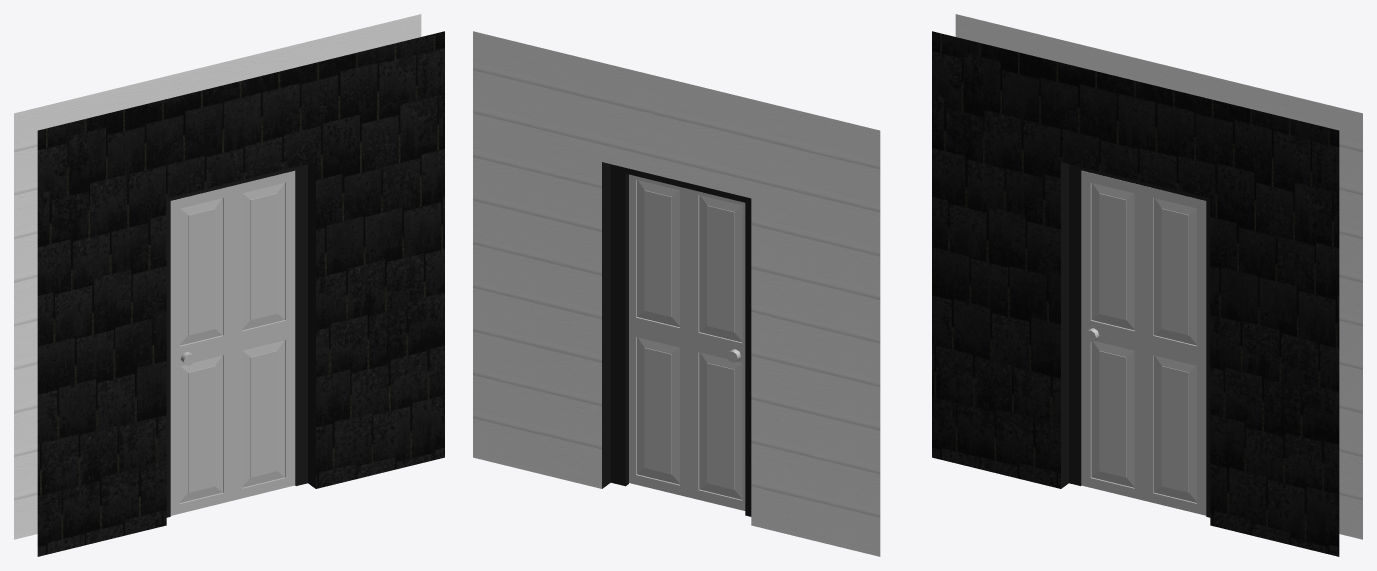
Rendered from Door_Wall_3m.fbx.
3 renders of one model, left to right at view 1: azimuth 30°, elevation 25°; view 2: azimuth 150°, elevation 25°; view 3: azimuth 330°, elevation 25°, orthographic.
Visible parts, largest first — view 1: Door_Wall_3m, Door.018; view 2: Door_Wall_3m, Door.018; view 3: Door_Wall_3m, Door.018.
Part boxes in pixels (x1=…): Door_Wall_3m: x1=14, y1=14, x2=444, y2=556; Door.018: x1=170, y1=170, x2=295, y2=515; Door_Wall_3m: x1=473, y1=31, x2=880, y2=556; Door.018: x1=629, y1=174, x2=745, y2=510; Door_Wall_3m: x1=932, y1=14, x2=1362, y2=556; Door.018: x1=1081, y1=170, x2=1206, y2=515.
Size of the model in its own units: 300 by 300 by 30.
